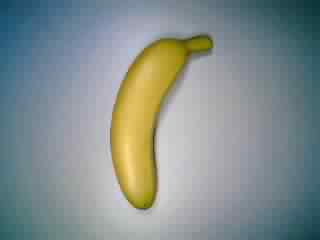banana: (106, 29, 218, 214)
